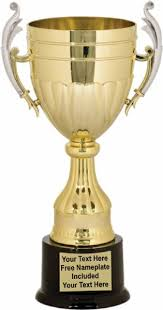trophy: (1, 1, 163, 306)
